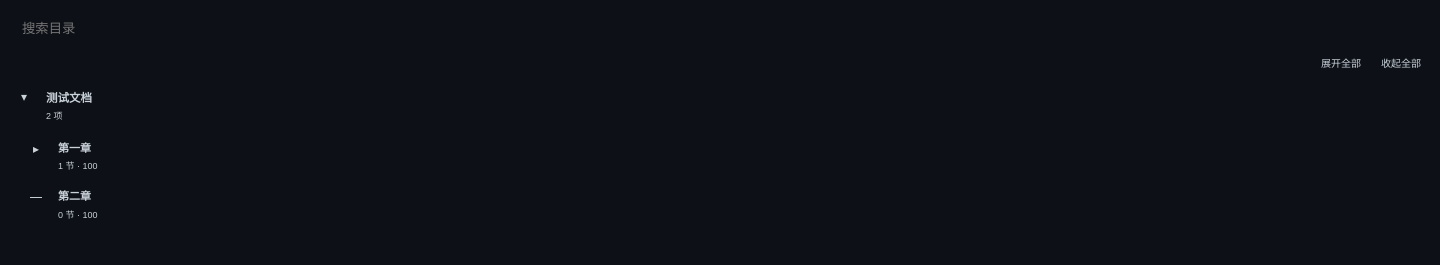
Test case: DocumentOutlineTree › temporarily expands matching paths and restores the previous state
This screenshot has width=1440, height=265.
Type "问题" into the search field named "搜索目录".
click(720, 28); type("问题")  # box [12, 12, 1428, 44]
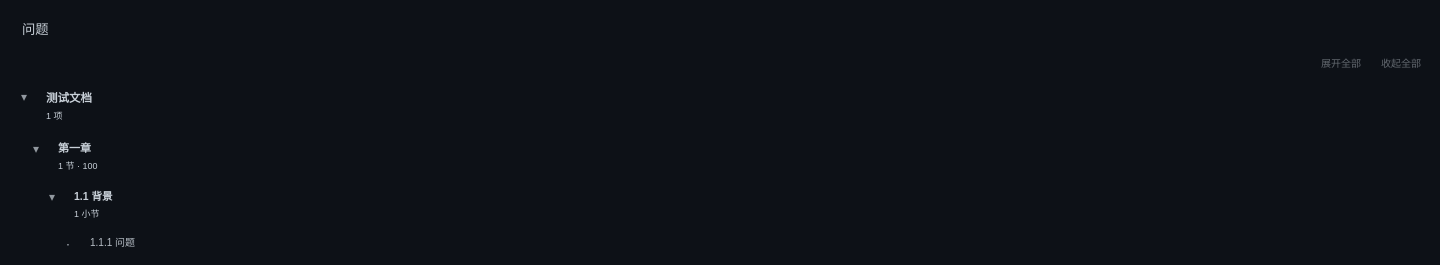
Expected: the text "第一章" is shown, [58, 142, 91, 154]
Expected: the text "1.1 背景" is shown, [74, 190, 112, 202]
Expected: the text "1.1.1 问题" is shown, [90, 237, 135, 248]
Clear the search field named "搜索目录" at (720, 28), box [12, 12, 1428, 44]
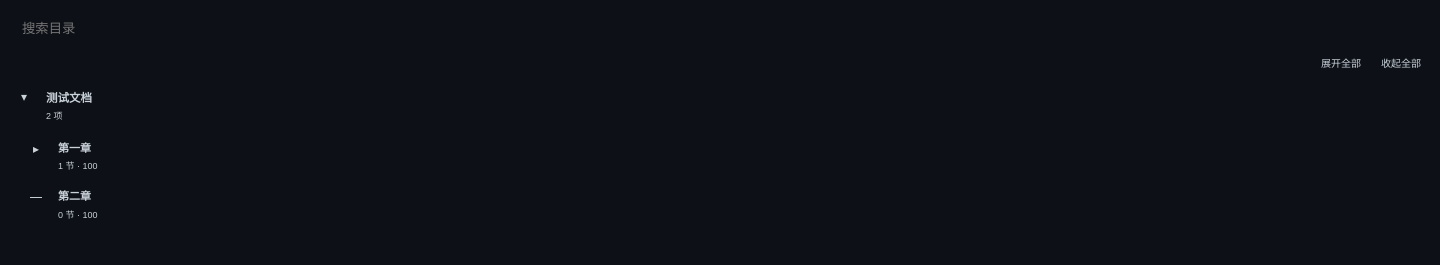
Expected: the text "1.1 背景" is gone
